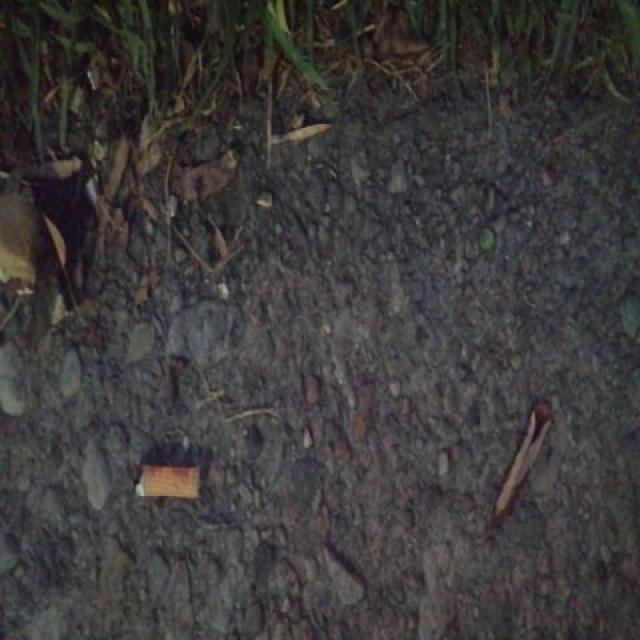non-organic waste: (132, 460, 204, 500)
